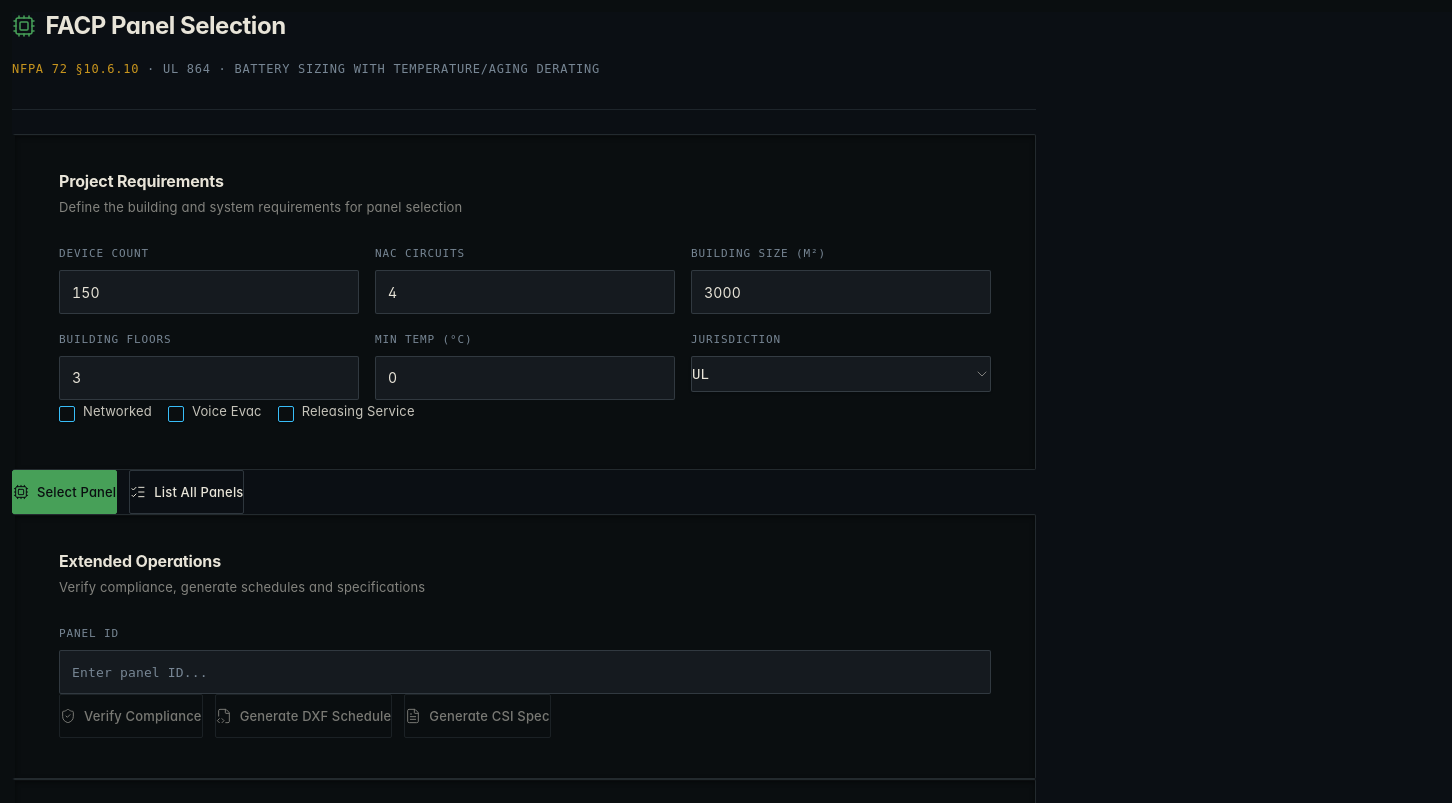
Test: FACPPage › displays panel database after listing
Click the button "List All Panels" at point(187, 492), box top-left (129, 470), bottom-right (244, 514)
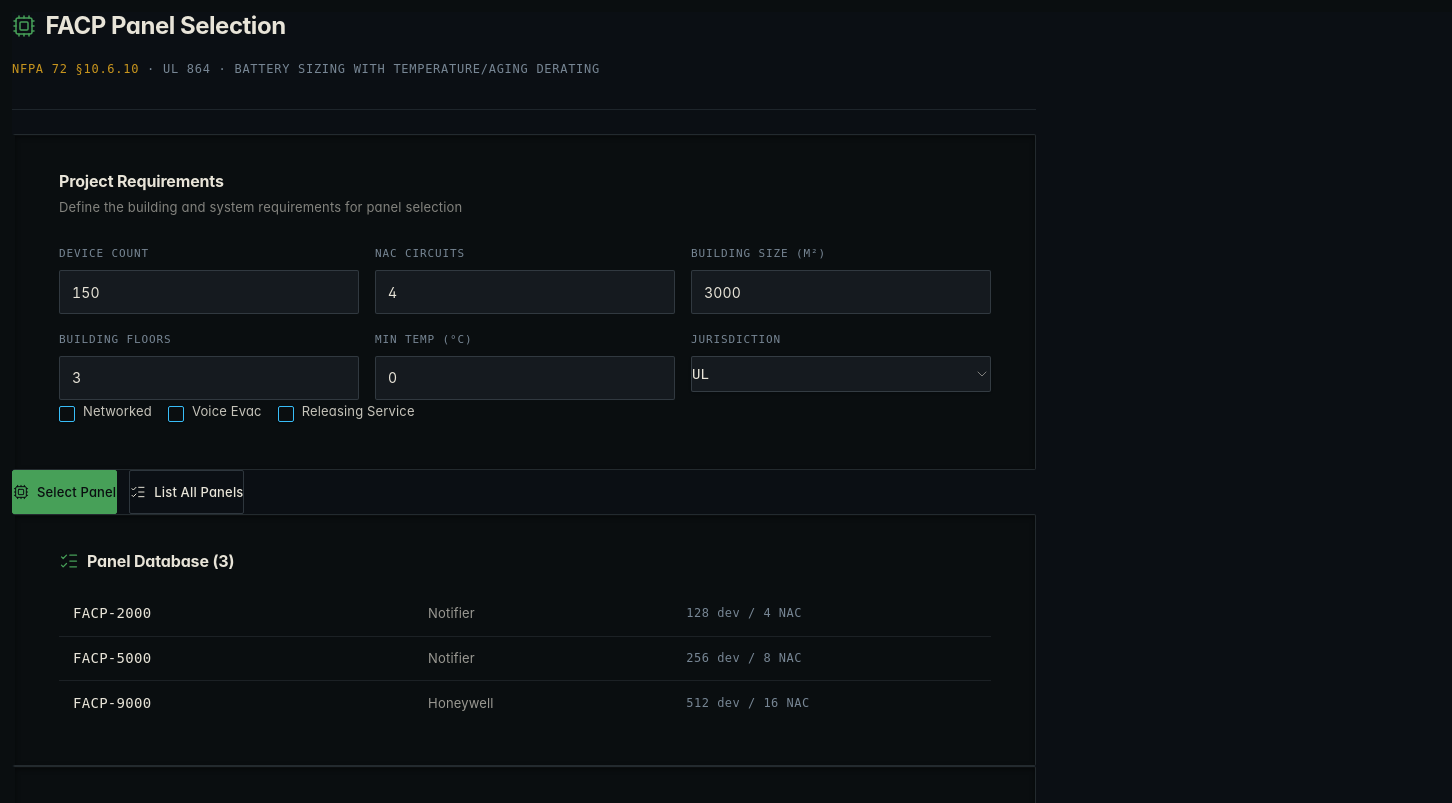
Check: the heading "Panel Database (3)" is shown, box top-left (59, 551), bottom-right (234, 571)
Check: the text "FACP-2000" is shown, box top-left (73, 605), bottom-right (151, 621)
Check: the text "FACP-5000" is shown, box top-left (73, 650), bottom-right (151, 666)
